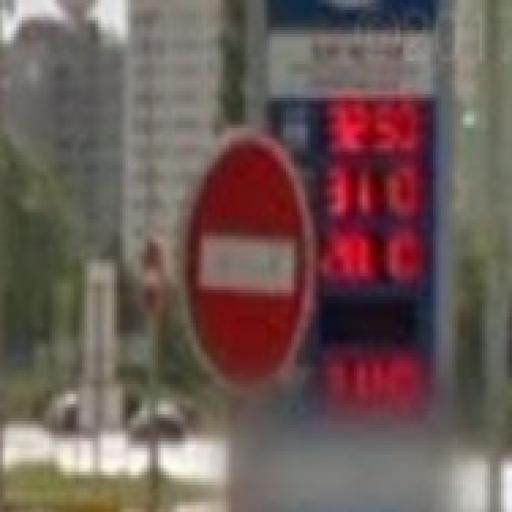traffic_sign: (181, 132, 314, 392)
